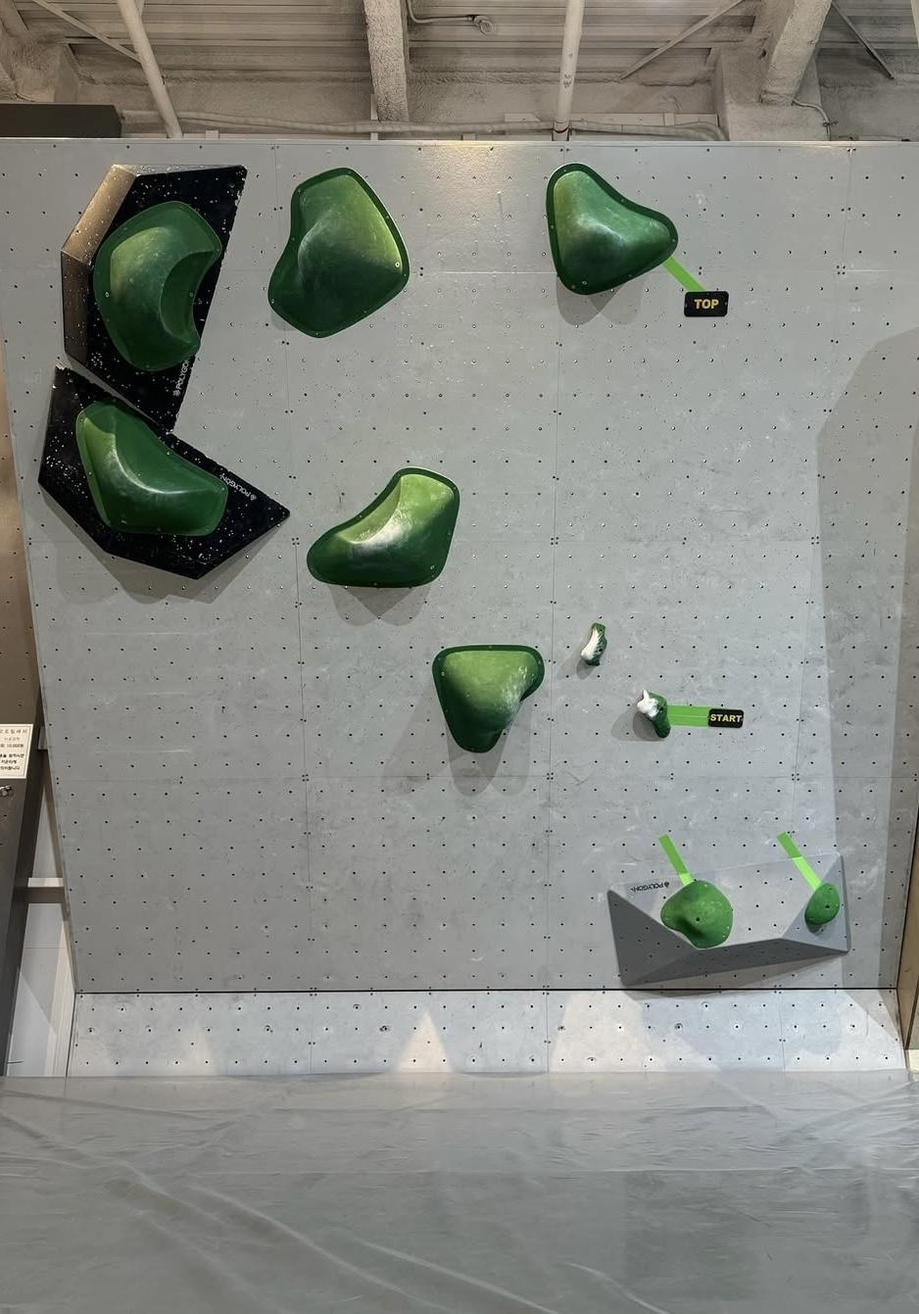hold: (267, 168, 409, 338), (93, 202, 222, 371), (76, 403, 227, 537), (308, 468, 459, 588), (546, 166, 676, 294), (432, 646, 544, 753), (661, 881, 731, 949), (634, 689, 673, 735), (805, 883, 840, 932), (579, 622, 606, 664)
volume: (33, 367, 290, 576), (56, 162, 249, 424), (607, 852, 855, 986)
